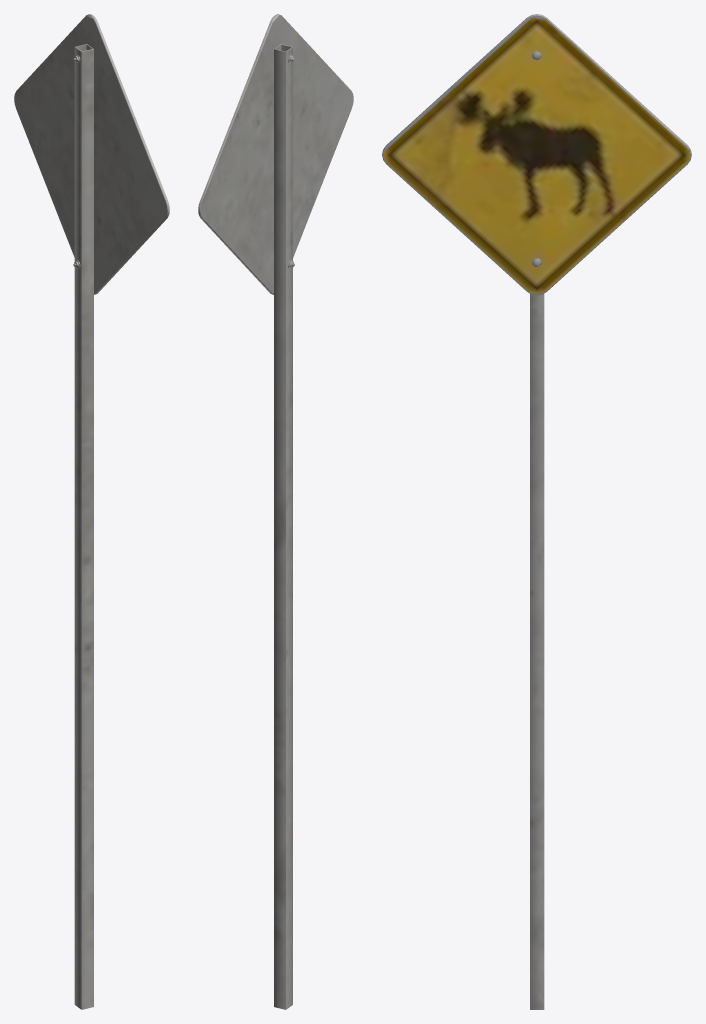
Rendered from sign-deer.lod0.glb.
3 renders of one model, left to right at view 1: azimuth 30°, elevation 25°; view 2: azimuth 150°, elevation 25°; view 3: azimuth 270°, elevation 25°, orthographic.
Visible parts, largest first — view 1: olen_LOW_POLY_sign_0; view 2: olen_LOW_POLY_sign_0; view 3: olen_LOW_POLY_sign_0.
Part boxes in pixels (x1=…): olen_LOW_POLY_sign_0: x1=14, y1=14, x2=169, y2=1009; olen_LOW_POLY_sign_0: x1=198, y1=14, x2=353, y2=1009; olen_LOW_POLY_sign_0: x1=382, y1=14, x2=691, y2=1009.
Size of the model in its own units: 0.0594 by 2.6 by 0.7326.
Materials: 1 (1 with a texture image).
